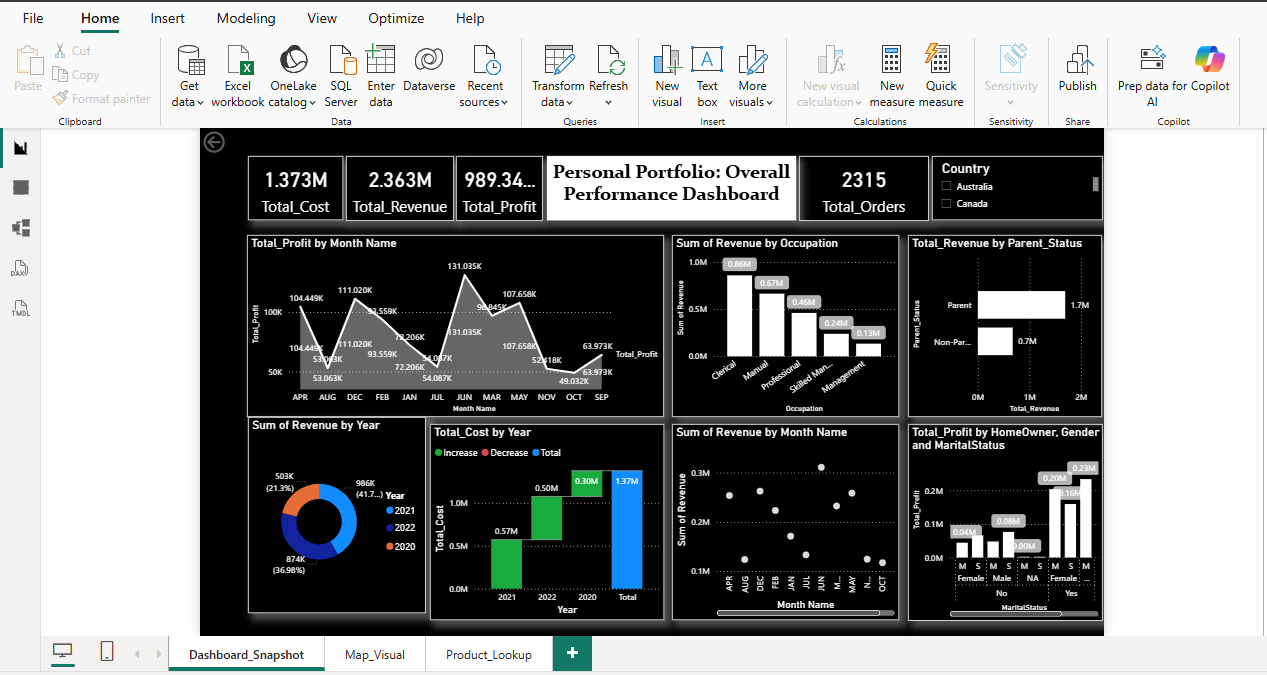

What the dashboard file says about the page in this screenshot:
{"tool":"powerbi","page":{"name":"Dashboard_Snapshot","canvas":[1280,720],"ordinal":0},"visuals":[{"type":"card","fields":{"Values":["@Measure_Table.Total_Cost"]},"box":[68,39.7,134.6,90.7],"z":0},{"type":"image","box":[5.7,153.1,49.6,68],"z":0,"group":"g1"},{"type":"card","fields":{"Values":["@Measure_Table.Total_Revenue"]},"box":[206.9,39.7,153.1,92.1],"z":1000},{"type":"image","box":[8.5,235.3,45.4,120.5],"z":1000,"group":"g1"},{"type":"card","fields":{"Values":["@Measure_Table.Total_Profit"]},"box":[362.8,39.7,123.3,92.1],"z":2000},{"type":"image","box":[0,384.1,70.9,51],"z":2000,"group":"g1"},{"type":"card","fields":{"Values":["Count(All Sales.OrderNumber)"]},"box":[849,39.7,184.3,92.1],"z":3000},{"type":"slicer","fields":{"Values":["Territory Lookup.Country"]},"box":[1037.5,39.7,242.4,90.7],"z":4000},{"type":"stackedAreaChart","fields":{"Y":["@Measure_Table.Total_Profit"],"Category":["Calendar Lookup.Date Hierarchy.Month Name","Calendar Lookup.Date Hierarchy.Year"]},"box":[66.6,151.7,591,258],"z":5000},{"type":"donutChart","fields":{"Y":["Sum(All Sales.Revenue)"],"Category":["Calendar Lookup.Date Hierarchy.Year"]},"box":[68,409.6,252.3,277.8],"z":6000},{"type":"waterfallChart","fields":{"Y":["@Measure_Table.Total_Cost"],"Category":["Calendar Lookup.Year"]},"box":[326,419.5,331.7,277.8],"z":7000},{"type":"actionButton","box":[0,0,100,40],"z":8000},{"type":"lineClusteredColumnComboChart","fields":{"Y":["Sum(All Sales.Revenue)"],"Category":["Customer Lookup.Occupation"]},"box":[669,151.7,321.7,258],"z":9000},{"type":"scatterChart","fields":{"X":["Calendar Lookup.Date Hierarchy.Month Name"],"Y":["Sum(All Sales.Revenue)"]},"box":[669,419.5,321.7,277.8],"z":10000},{"type":"lineClusteredColumnComboChart","fields":{"Y":["@Measure_Table.Total_Profit"],"Category":["Customer Lookup.HomeOwner","Customer Lookup.Gender","Customer Lookup.MaritalStatus"]},"box":[1003.5,419.5,276.4,279.2],"z":11000},{"type":"clusteredBarChart","fields":{"Category":["Customer Lookup.Parent_Status"],"Y":["@Measure_Table.Total_Revenue"]},"box":[1003.5,151.7,275,258],"z":12000},{"type":"textbox","box":[491.8,39.7,352.9,90.7],"z":13000},{"type":"shape","box":[8.5,151.7,49.6,69.4],"z":14000},{"type":"shape","box":[8.5,374.2,49.6,69.4],"z":15000},{"type":"shape","box":[8.5,260.8,49.6,69.4],"z":16000},{"type":"group","id":"g1","title":"Group 1","box":[0,153.1,70.9,282],"z":17000},{"type":"qnaVisual","box":[0,443.6,150,253.7],"z":18000},{"type":"qnaVisual","box":[8.5,466.3,150.2,253.7],"z":19000},{"type":"qnaVisual","box":[8.5,443.6,150.2,253.7],"z":20000}]}

Visuals, with their boxes on the page's 1280x720 design canvas (x1, y1, x2, y2). These are canvas units, not pixel positions in the 1267x675 screenshot, which may show the page scaled, cropped or inside an application window:
card - @Measure_Table.Total_Cost: <bbox>68, 40, 203, 130</bbox>
image: <bbox>6, 153, 55, 221</bbox>
card - @Measure_Table.Total_Revenue: <bbox>207, 40, 360, 132</bbox>
image: <bbox>8, 235, 54, 356</bbox>
card - @Measure_Table.Total_Profit: <bbox>363, 40, 486, 132</bbox>
image: <bbox>0, 384, 71, 435</bbox>
card - Count(All Sales.OrderNumber): <bbox>849, 40, 1033, 132</bbox>
slicer - Territory Lookup.Country: <bbox>1038, 40, 1280, 130</bbox>
stackedAreaChart - @Measure_Table.Total_Profit x Calendar Lookup.Date Hierarchy.Month Name: <bbox>67, 152, 658, 410</bbox>
donutChart - Sum(All Sales.Revenue) x Calendar Lookup.Date Hierarchy.Year: <bbox>68, 410, 320, 687</bbox>
waterfallChart - @Measure_Table.Total_Cost x Calendar Lookup.Year: <bbox>326, 420, 658, 697</bbox>
actionButton: <bbox>0, 0, 100, 40</bbox>
lineClusteredColumnComboChart - Sum(All Sales.Revenue) x Customer Lookup.Occupation: <bbox>669, 152, 991, 410</bbox>
scatterChart - Calendar Lookup.Date Hierarchy.Month Name x Sum(All Sales.Revenue): <bbox>669, 420, 991, 697</bbox>
lineClusteredColumnComboChart - @Measure_Table.Total_Profit x Customer Lookup.HomeOwner: <bbox>1004, 420, 1280, 699</bbox>
clusteredBarChart - Customer Lookup.Parent_Status x @Measure_Table.Total_Revenue: <bbox>1004, 152, 1278, 410</bbox>
textbox: <bbox>492, 40, 845, 130</bbox>
shape: <bbox>8, 152, 58, 221</bbox>
shape: <bbox>8, 374, 58, 444</bbox>
shape: <bbox>8, 261, 58, 330</bbox>
"Group 1" group: <bbox>0, 153, 71, 435</bbox>
qnaVisual: <bbox>0, 444, 150, 697</bbox>
qnaVisual: <bbox>8, 466, 159, 720</bbox>
qnaVisual: <bbox>8, 444, 159, 697</bbox>
